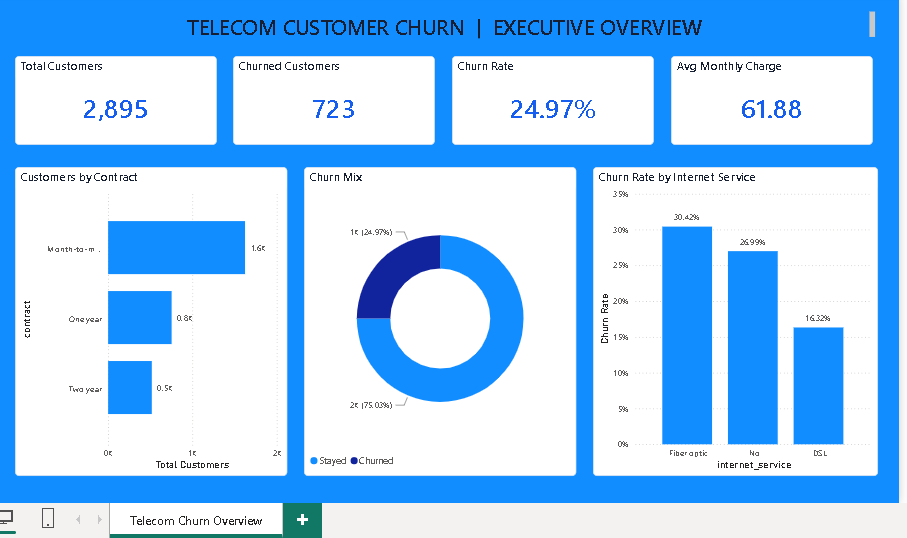

The page's visual inventory and layout, read from the dashboard file:
{"tool":"powerbi","page":{"name":"Telecom Churn Overview","canvas":[1280,720],"ordinal":0},"visuals":[{"type":"textbox","box":[28,18,1224,48],"z":1000},{"type":"card","title":"Total Customers","fields":{"Values":["Telecom Customers.Total Customers"]},"box":[28,86,286,126],"z":2001},{"type":"card","title":"Churned Customers","fields":{"Values":["Telecom Customers.Churned Customers"]},"box":[338,86,286,126],"z":2002},{"type":"card","title":"Churn Rate","fields":{"Values":["Telecom Customers.Churn Rate"]},"box":[648,86,286,126],"z":2003},{"type":"card","title":"Avg Monthly Charge","fields":{"Values":["Telecom Customers.Average Monthly Charge"]},"box":[958,86,286,126],"z":2004},{"type":"barChart","title":"Customers by Contract","fields":{"Category":["Telecom Customers.contract"],"Y":["Telecom Customers.Total Customers"]},"box":[28,244,386,438],"z":3005},{"type":"donutChart","title":"Churn Mix","fields":{"Category":["Telecom Customers.Churn Status"],"Y":["Telecom Customers.Total Customers"]},"box":[438,244,386,438],"z":3006},{"type":"clusteredColumnChart","title":"Churn Rate by Internet Service","fields":{"Category":["Telecom Customers.internet_service"],"Y":["Telecom Customers.Churn Rate"]},"box":[848,244,404,438],"z":3007}]}

Visuals, with their boxes in screenshot pixels (x1, y1, x2, y2):
textbox: 15, 8, 870, 41
"Total Customers" card: 15, 55, 215, 143
"Churned Customers" card: 231, 55, 431, 143
"Churn Rate" card: 448, 55, 648, 143
"Avg Monthly Charge" card: 665, 55, 865, 143
"Customers by Contract" barChart: 15, 166, 285, 472
"Churn Mix" donutChart: 301, 166, 571, 472
"Churn Rate by Internet Service" clusteredColumnChart: 588, 166, 870, 472
